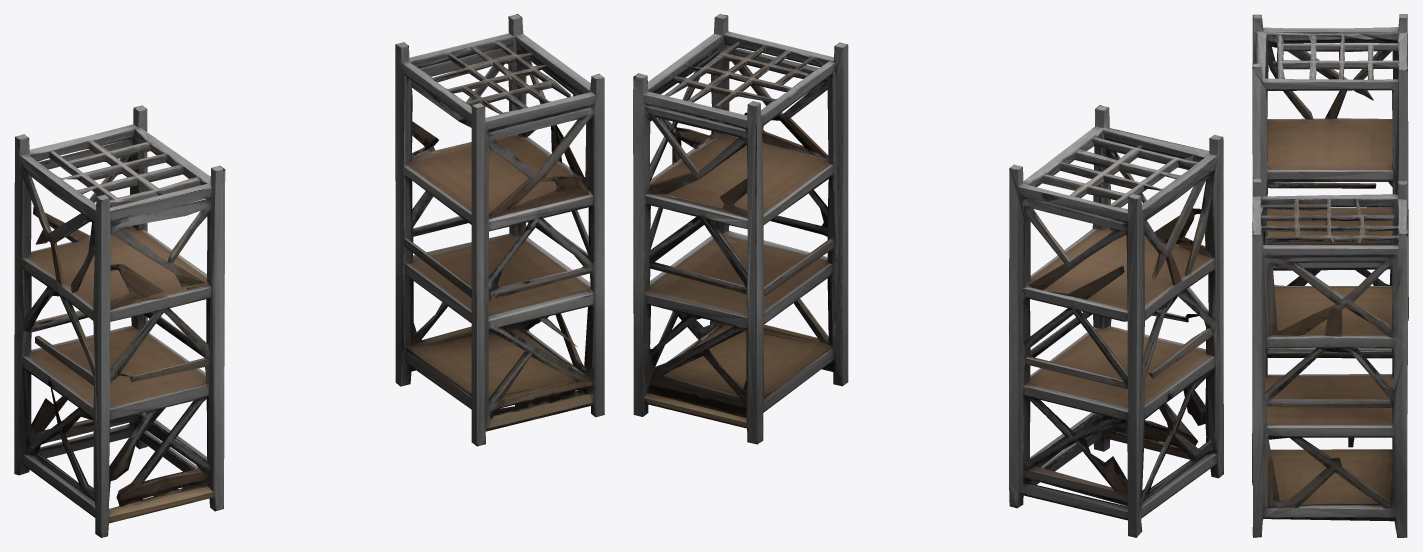
The model's file is metal-structure.glb.
The picture shows the model from 3 angles, left to right: view 1: azimuth 30°, elevation 25°; view 2: azimuth 150°, elevation 25°; view 3: azimuth 270°, elevation 25°; orthographic projection. The views are drawn at different scales.
Visible parts, largest first — view 1: geometry_0; view 2: geometry_0; view 3: geometry_0.
Boxes of the visible parts, box(x1,y1,x2,y2) form: geometry_0: box(14, 14, 604, 537); geometry_0: box(633, 14, 1223, 537); geometry_0: box(1252, 14, 1408, 537).
Size of the model in its own units: 1 by 0.6439 by 0.3001.
1 material, 1 textured.
